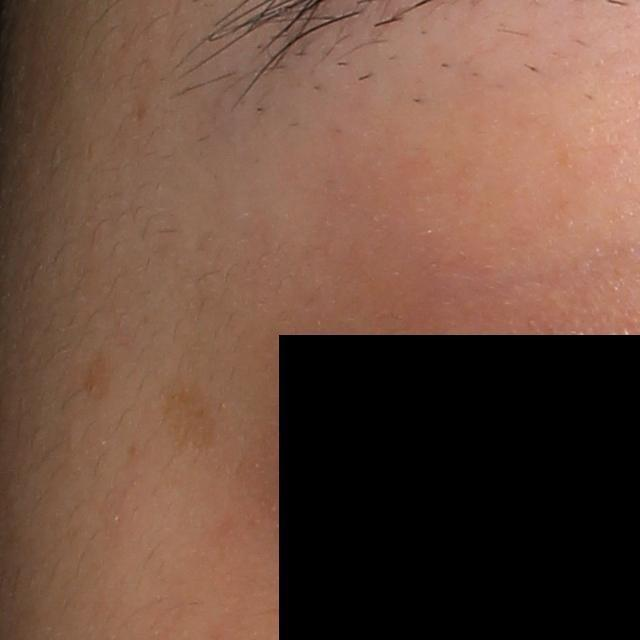melasma: (156, 375, 229, 465), (81, 347, 115, 399)
